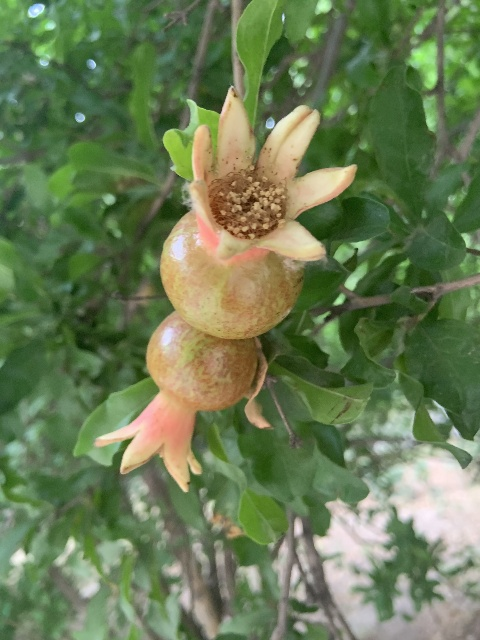early-fruit: (159, 87, 355, 336), (93, 311, 266, 493)
